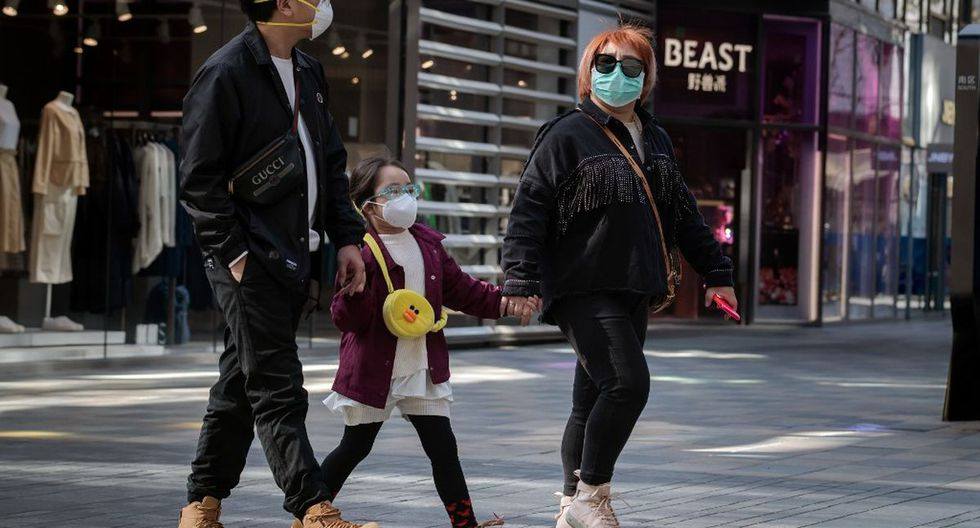with_mask: (358, 164, 429, 232), (589, 41, 650, 109), (255, 1, 340, 42)
